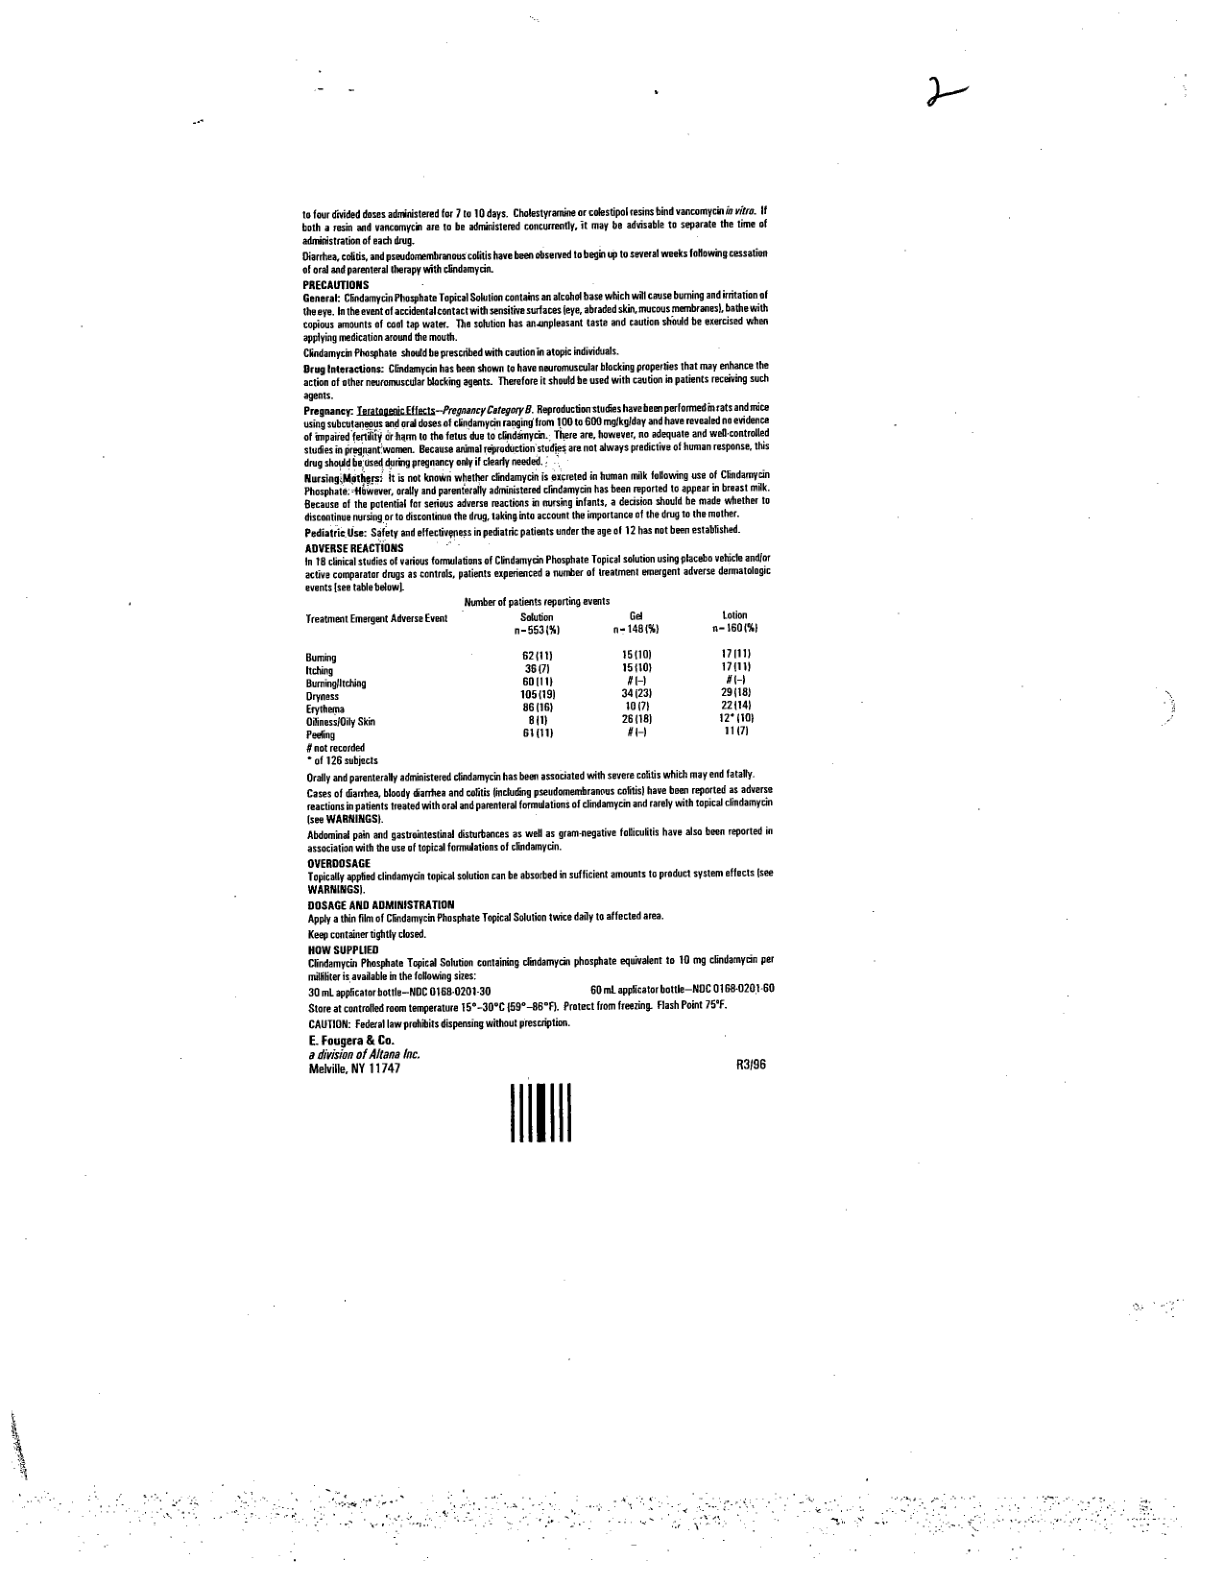nolines: (303, 611, 761, 742)
